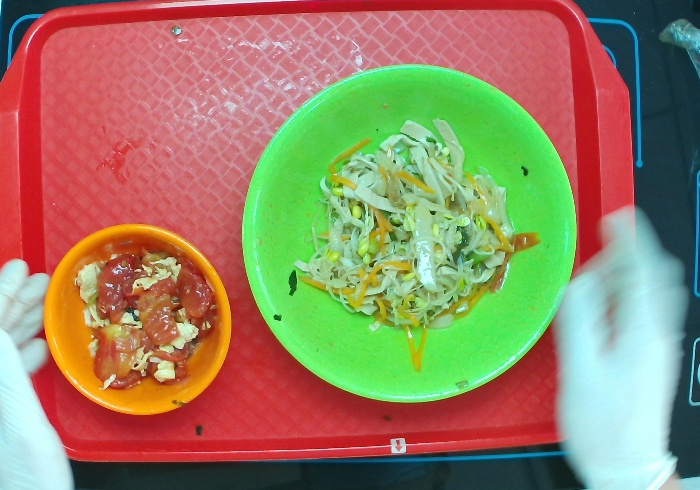YKMZ-Ju_Se_Yuan_Wan: (38, 219, 236, 422)
YKMZ-Lv_Se_Tang_Wan: (232, 57, 579, 409)
